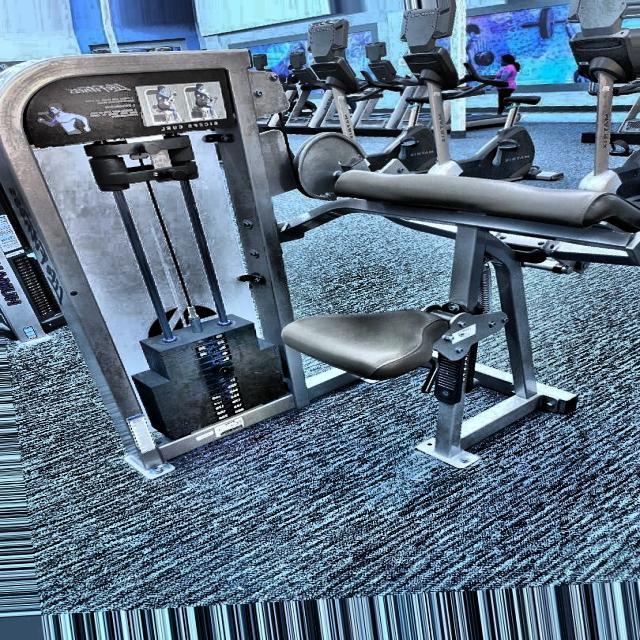bicep_curl_machine: (6, 33, 626, 460)
